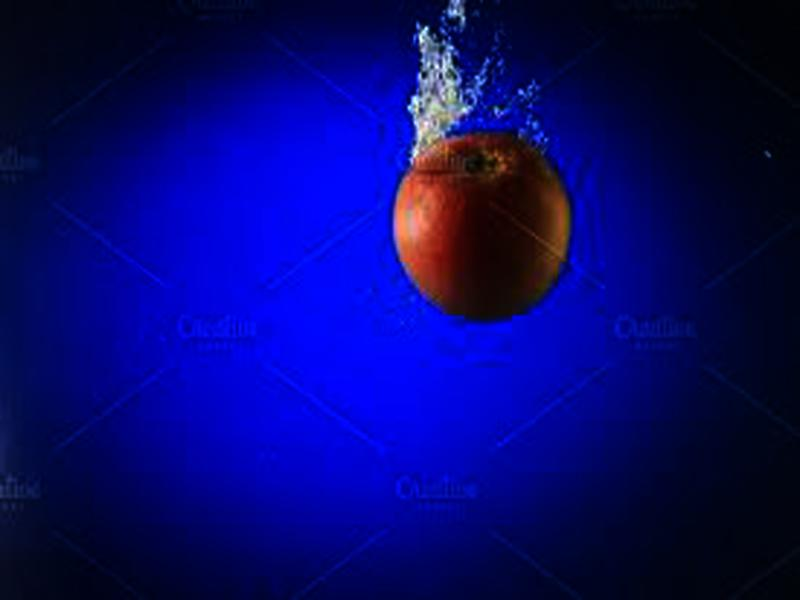Tomato: (393, 131, 573, 315)
